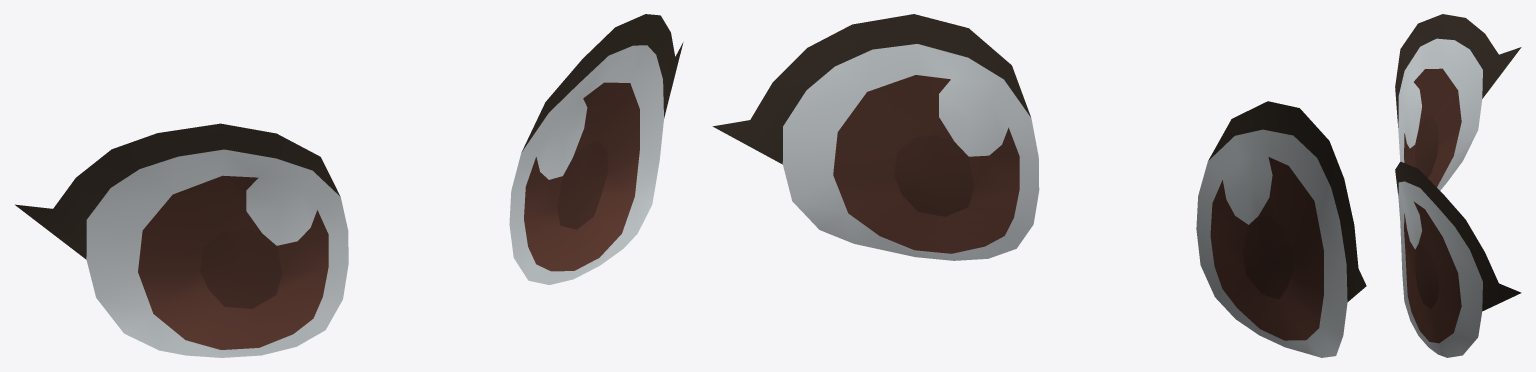
File: Eye_7.fbx
The picture shows the model from 3 angles, left to right: view 1: azimuth 30°, elevation 25°; view 2: azimuth 150°, elevation 25°; view 3: azimuth 270°, elevation 25°; orthographic projection. The views are drawn at different scales.
Parts seen in each view (by area): view 1: Eye_7; view 2: Eye_7; view 3: Eye_7.
Boxes of the visible parts, box(x1,y1,x2,y2) form: Eye_7: box(15, 14, 683, 357); Eye_7: box(712, 14, 1366, 357); Eye_7: box(1395, 14, 1521, 357).
Bounding box in the file's own units: 41.96 × 14.51 × 9.14.
